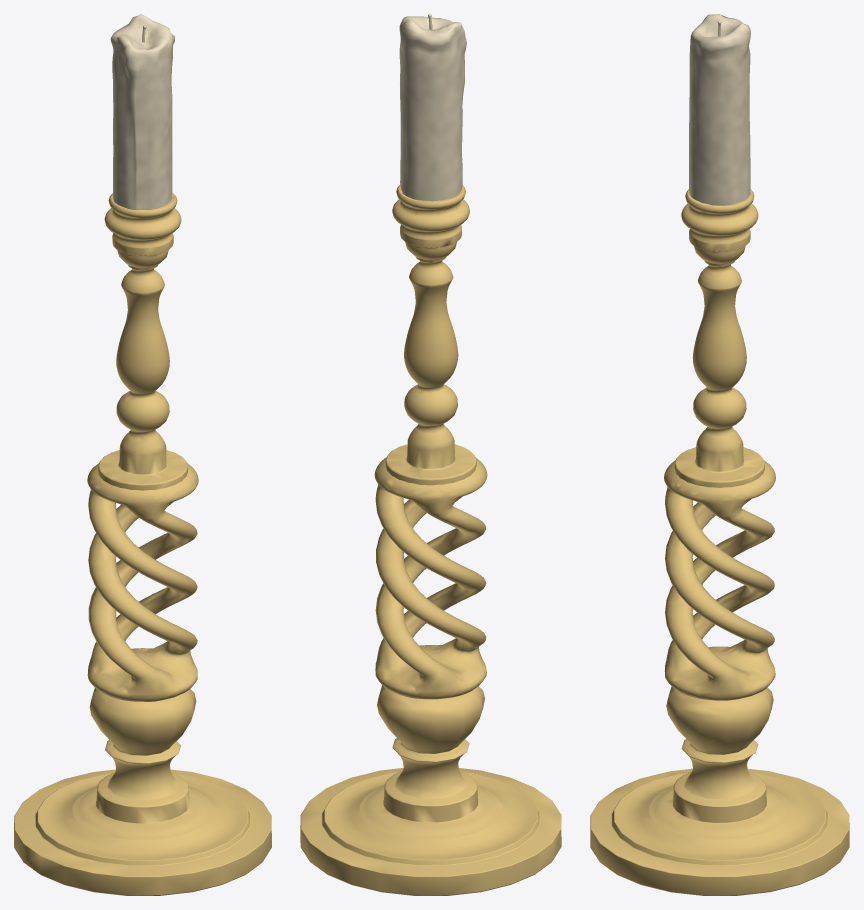
The model's file is z1_vela.obj.
3 views of the same model, side by side, from view 1: azimuth 30°, elevation 25°; view 2: azimuth 150°, elevation 25°; view 3: azimuth 270°, elevation 25° (orthographic).
Visible parts, largest first — view 1: Elegant_Spiral_Candle_Holder; view 2: Elegant_Spiral_Candle_Holder; view 3: Elegant_Spiral_Candle_Holder.
Boxes of the visible parts, bbox=[...] form: Elegant_Spiral_Candle_Holder: bbox=[14, 14, 271, 895]; Elegant_Spiral_Candle_Holder: bbox=[300, 14, 561, 895]; Elegant_Spiral_Candle_Holder: bbox=[590, 14, 849, 895].
Bounding box in the file's own units: 0.0858 × 0.3 × 0.0858.
Materials: 2 (2 with a texture image).
